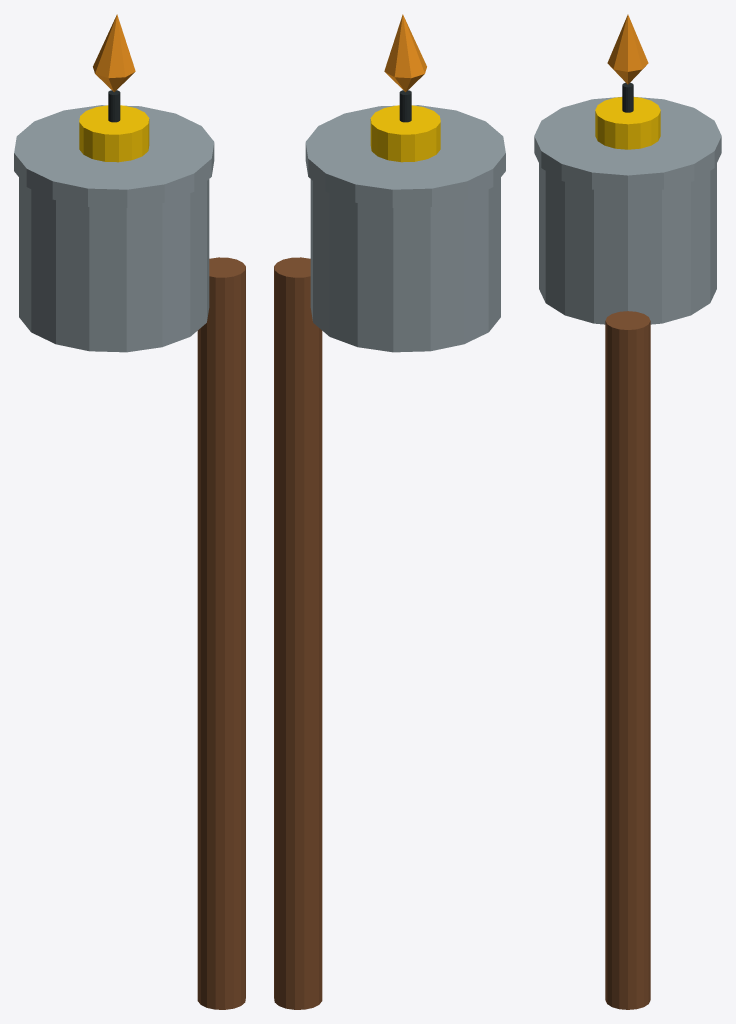
The model's file is source-edit.glb.
3 views of the same model, side by side, from view 1: azimuth 30°, elevation 25°; view 2: azimuth 150°, elevation 25°; view 3: azimuth 270°, elevation 25° (orthographic). The views are drawn at different scales.
Parts seen in each view (by area): view 1: Bamboo_Stake, Reservoir, Shoulder, Wick_Cap, Flame; view 2: Bamboo_Stake, Reservoir, Shoulder, Wick_Cap, Flame; view 3: Bamboo_Stake, Reservoir, Shoulder, Wick_Cap, Flame.
Part boxes in pixels (x1,y1,x2,y2): Bamboo_Stake: (197, 257, 245, 1009); Reservoir: (19, 178, 209, 352); Shoulder: (14, 105, 214, 207); Wick_Cap: (79, 105, 149, 162); Flame: (93, 14, 135, 92); Bamboo_Stake: (274, 257, 322, 1009); Reservoir: (310, 178, 500, 352); Shoulder: (305, 105, 505, 207); Wick_Cap: (370, 105, 440, 162); Flame: (384, 14, 426, 92); Bamboo_Stake: (605, 311, 650, 1009); Reservoir: (539, 163, 716, 324); Shoulder: (534, 97, 721, 192); Wick_Cap: (595, 97, 660, 149); Flame: (607, 14, 648, 84).
Size of the model in its own units: 0.247 by 1.11 by 0.2.
